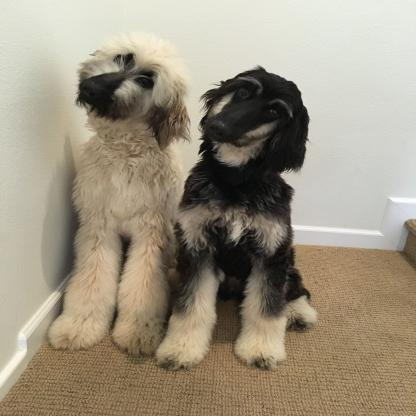Afghan Hound: (25, 17, 212, 290), (155, 56, 337, 301)
